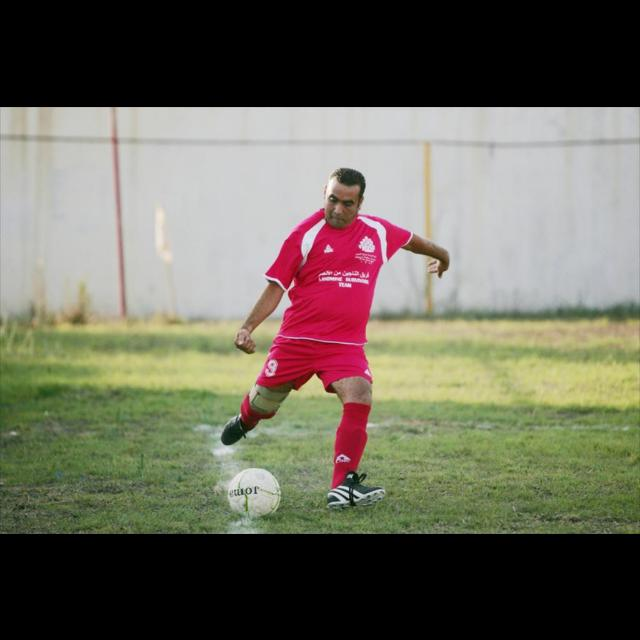Football: (226, 467, 278, 518)
